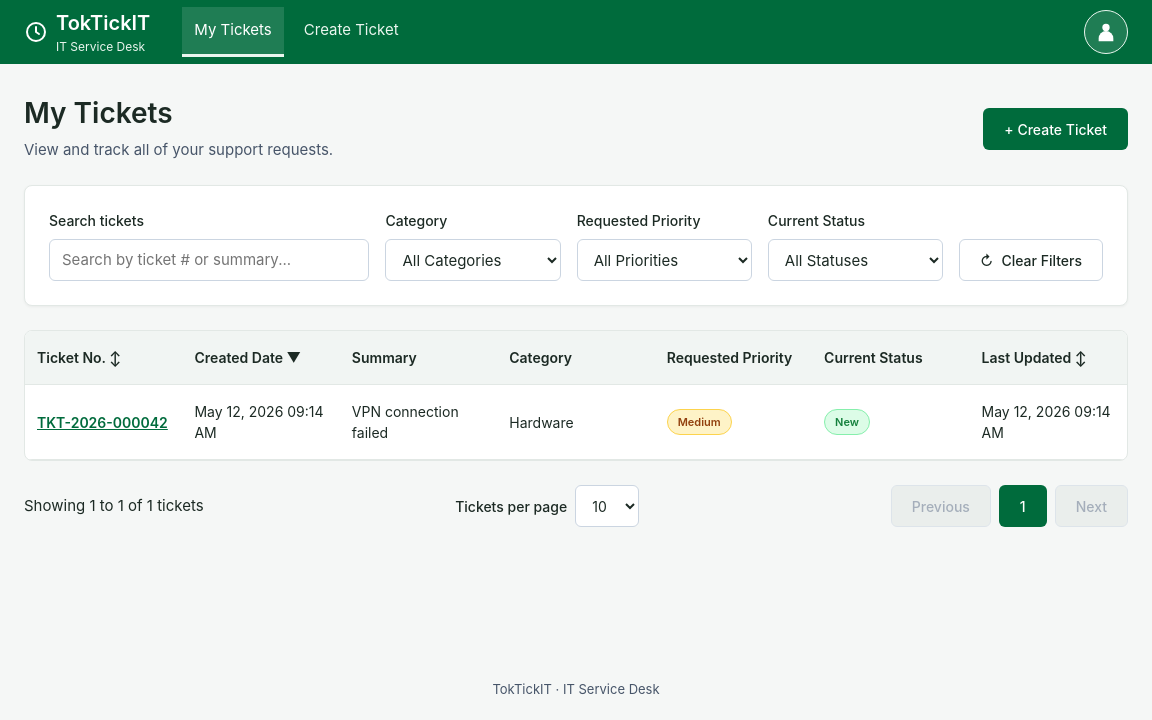
UI-LST-004,006–009: debounce, Enter, no-results and Clear Filters
Step 1. Type "vpn" into the field labelled "Search tickets" → [209, 260], box [49,239,369,281]
Wait 300 ms
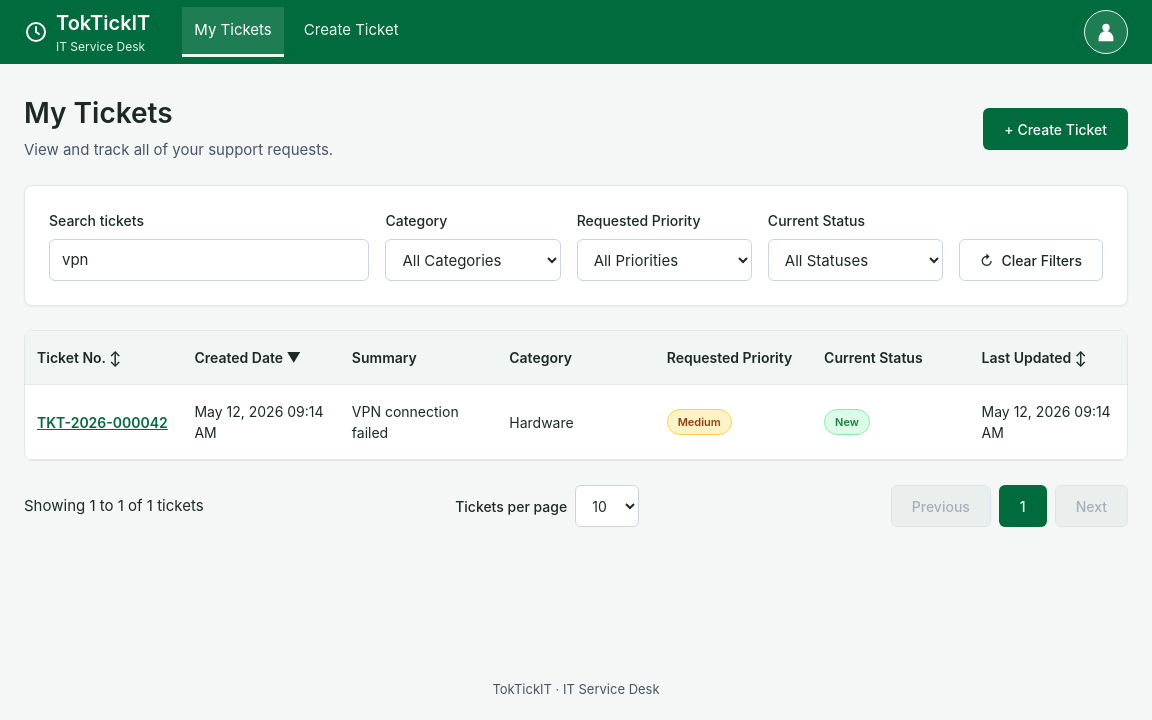
Step 2. Replace the text in the field labelled "Search tickets" with "absent" → [209, 260], box [49,239,369,281]
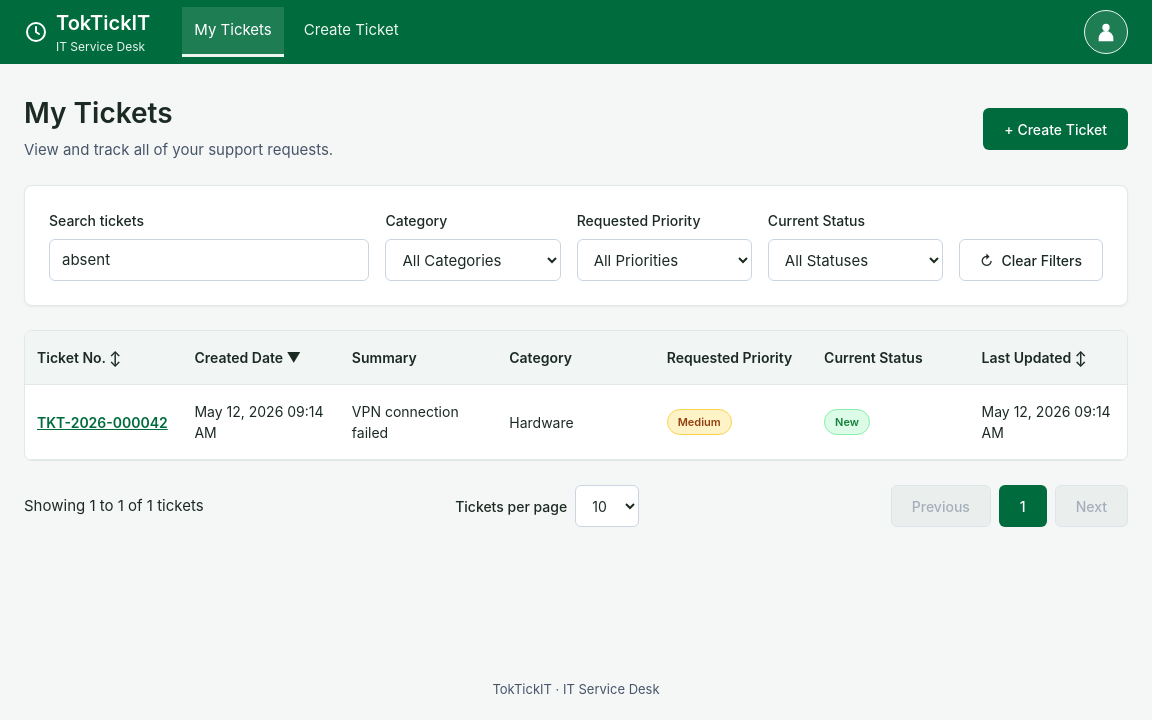
Step 3. Press Enter in the field labelled "Search tickets", box [49,239,369,281]
Wait 300 ms
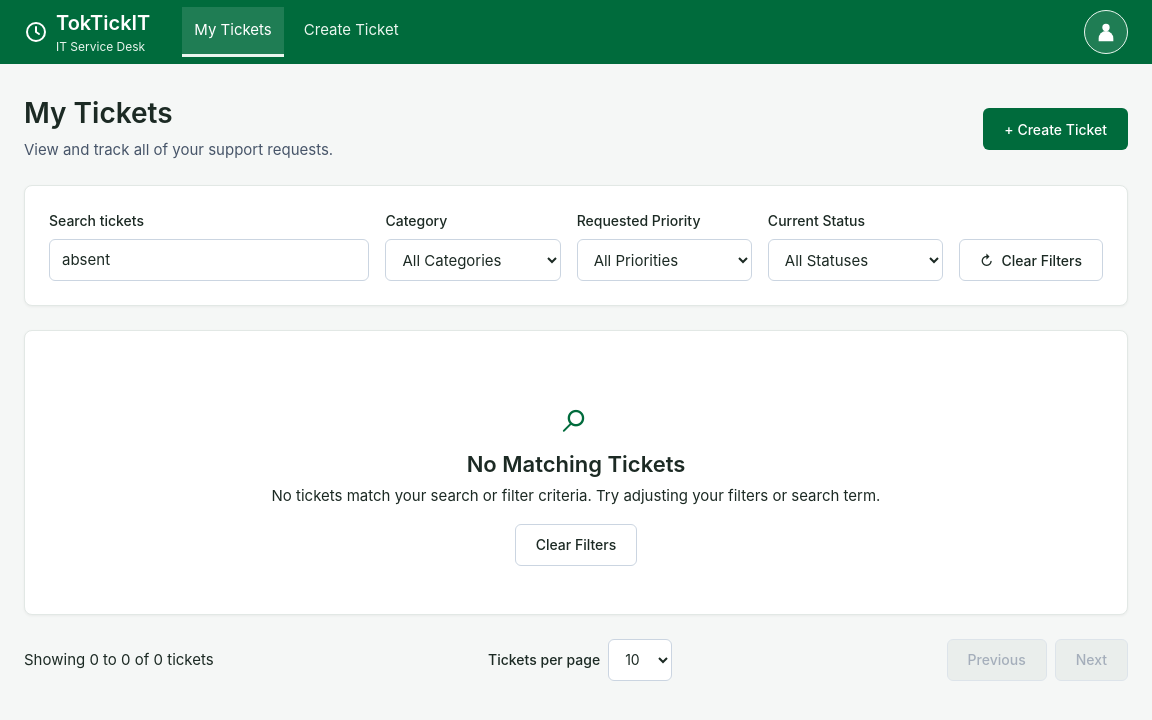
Result: the text "No tickets match your search or filter criteria. Try adjusting your filters or search term." is shown at [272,486,880,506]
Step 4. Click the button "↻ Clear Filters" → [1031, 260], box [959,239,1103,281]
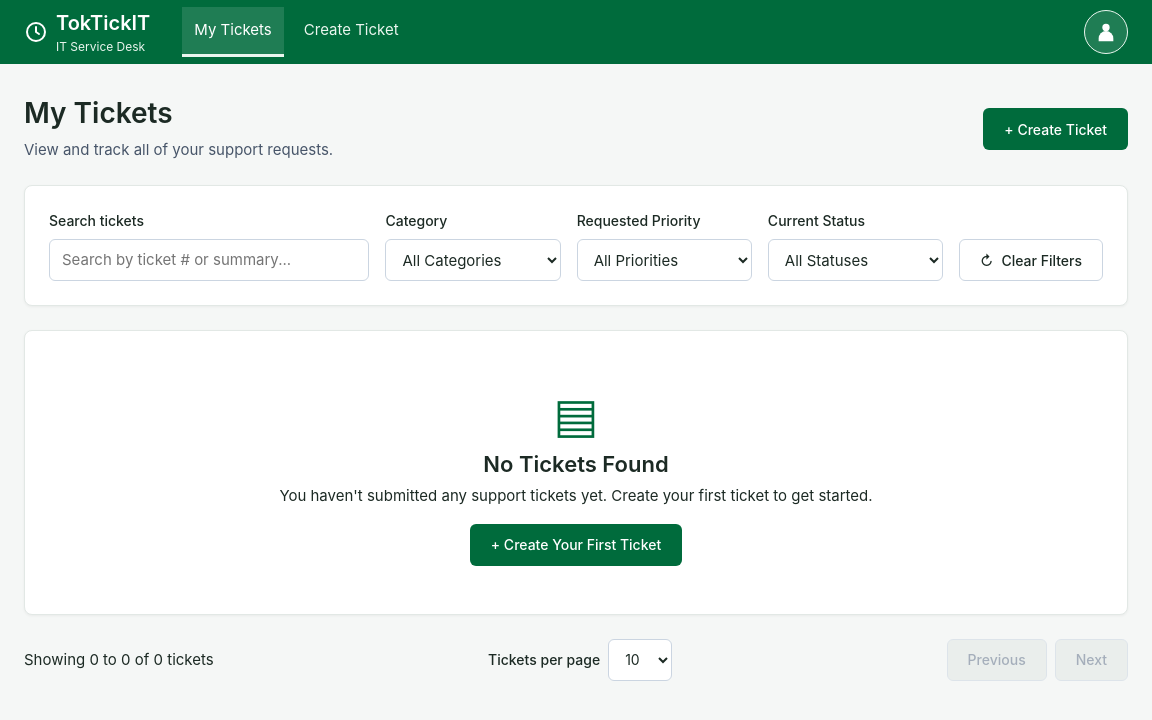
Result: the field labelled "Search tickets" is empty at [49,239,369,281]
